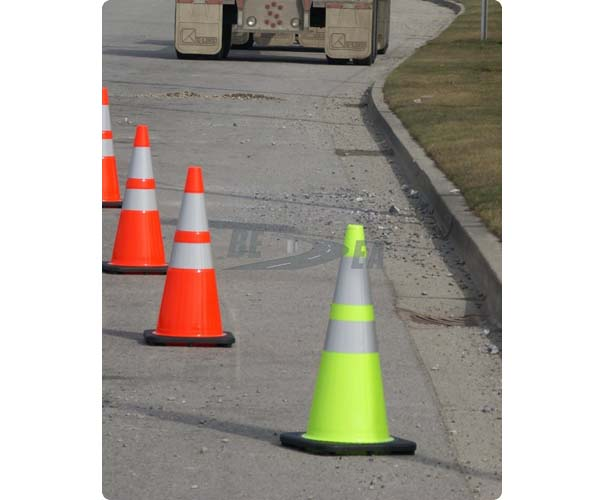yellowC: (268, 210, 423, 463)
